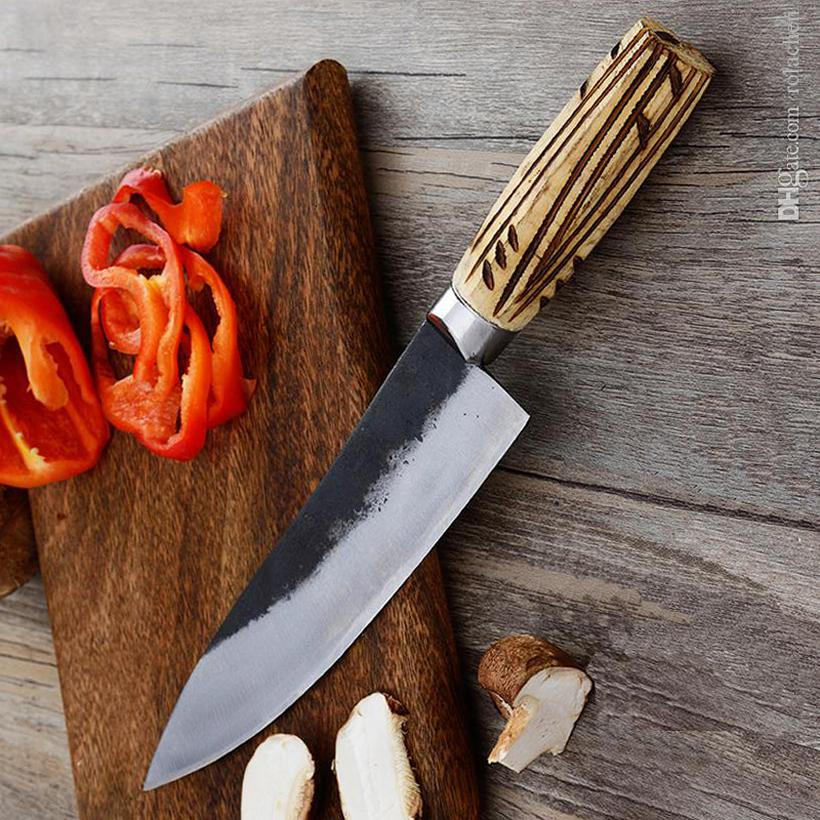knife: (145, 19, 717, 794)
